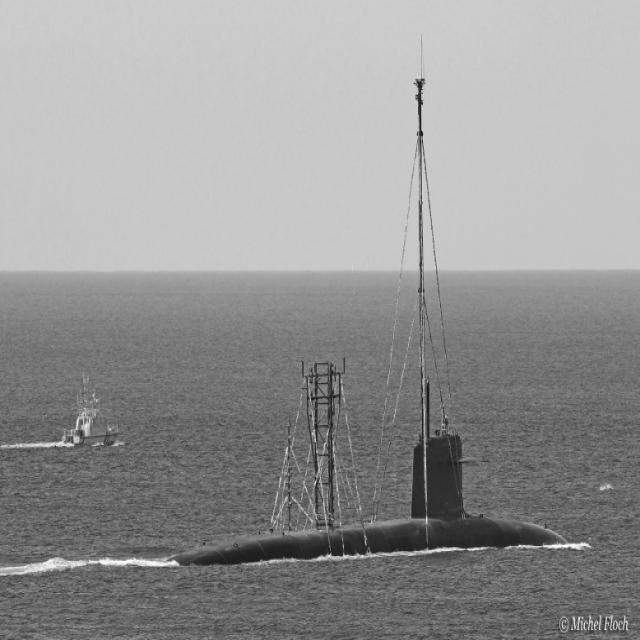submarine: (166, 431, 595, 568)
